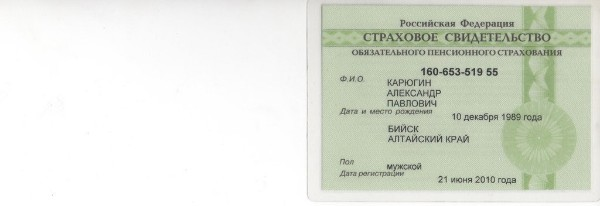text: (386, 121, 473, 145), (452, 109, 542, 124), (418, 62, 503, 77), (434, 175, 521, 184), (384, 86, 443, 99), (382, 97, 439, 109), (383, 77, 434, 88), (382, 161, 426, 170)
